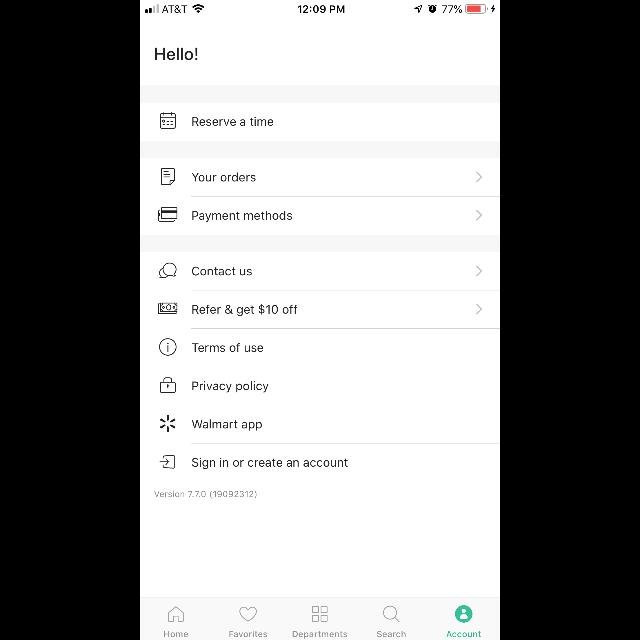icon: (158, 206, 178, 222), (160, 338, 177, 356), (160, 112, 176, 130), (240, 606, 256, 622), (312, 606, 328, 622), (383, 606, 399, 622), (456, 606, 472, 622), (168, 606, 184, 622), (161, 168, 175, 186), (158, 302, 178, 314), (160, 264, 177, 278), (160, 378, 176, 392), (160, 455, 176, 469), (476, 304, 482, 314), (476, 266, 482, 276), (476, 210, 482, 220), (476, 172, 482, 182)
image: (160, 416, 176, 432)
text: (192, 457, 348, 469), (192, 304, 298, 316), (192, 210, 292, 222), (155, 490, 257, 498), (192, 382, 268, 392), (192, 420, 262, 430), (192, 118, 274, 126), (192, 343, 264, 352), (192, 172, 256, 182), (192, 266, 252, 276), (154, 48, 198, 61), (292, 631, 348, 639), (229, 631, 267, 637), (447, 631, 481, 637), (377, 631, 405, 637), (165, 631, 189, 637)
uppertaskbar: (140, 0, 500, 14)
